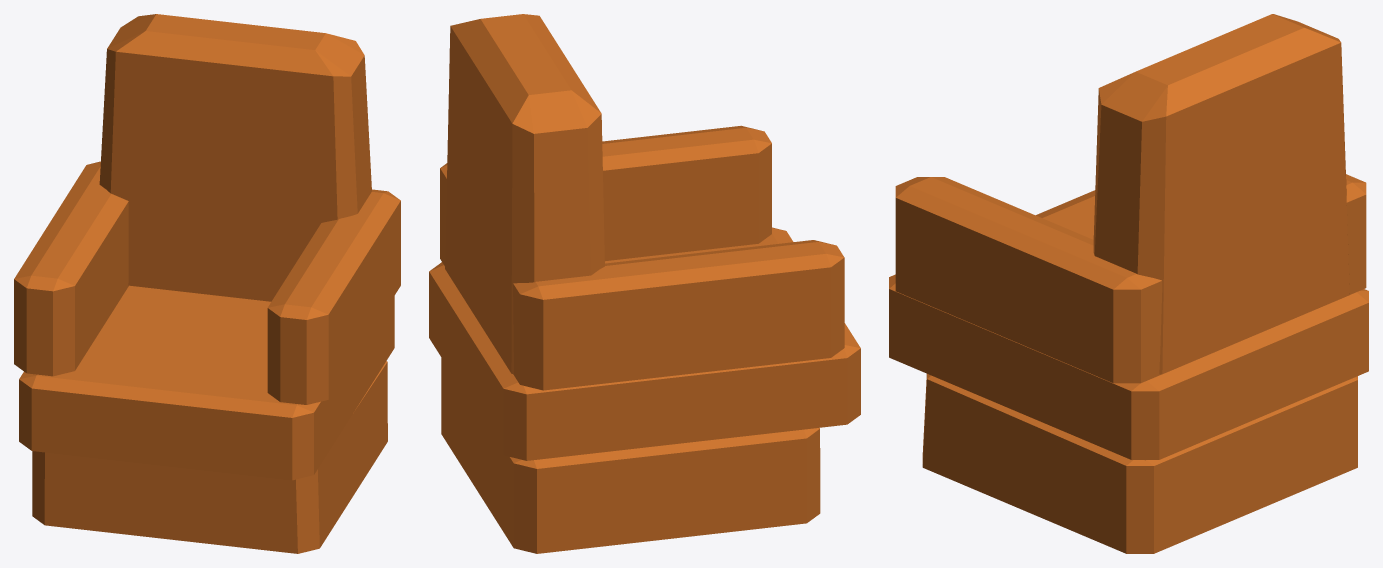
The model's file is Armchair_Material.fbx.
3 views of the same model, side by side, from view 1: azimuth 30°, elevation 25°; view 2: azimuth 150°, elevation 25°; view 3: azimuth 270°, elevation 25° (orthographic). The views are drawn at different scales.
Visible parts, largest first — view 1: Armchair; view 2: Armchair; view 3: Armchair.
Boxes of the visible parts, bbox=[...] form: Armchair: bbox=[14, 14, 400, 553]; Armchair: bbox=[429, 14, 860, 553]; Armchair: bbox=[889, 14, 1368, 553].
Size of the model in its own units: 0.8643 by 0.8973 by 0.8643.
